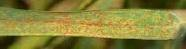Wheat: (5, 14, 171, 34)
